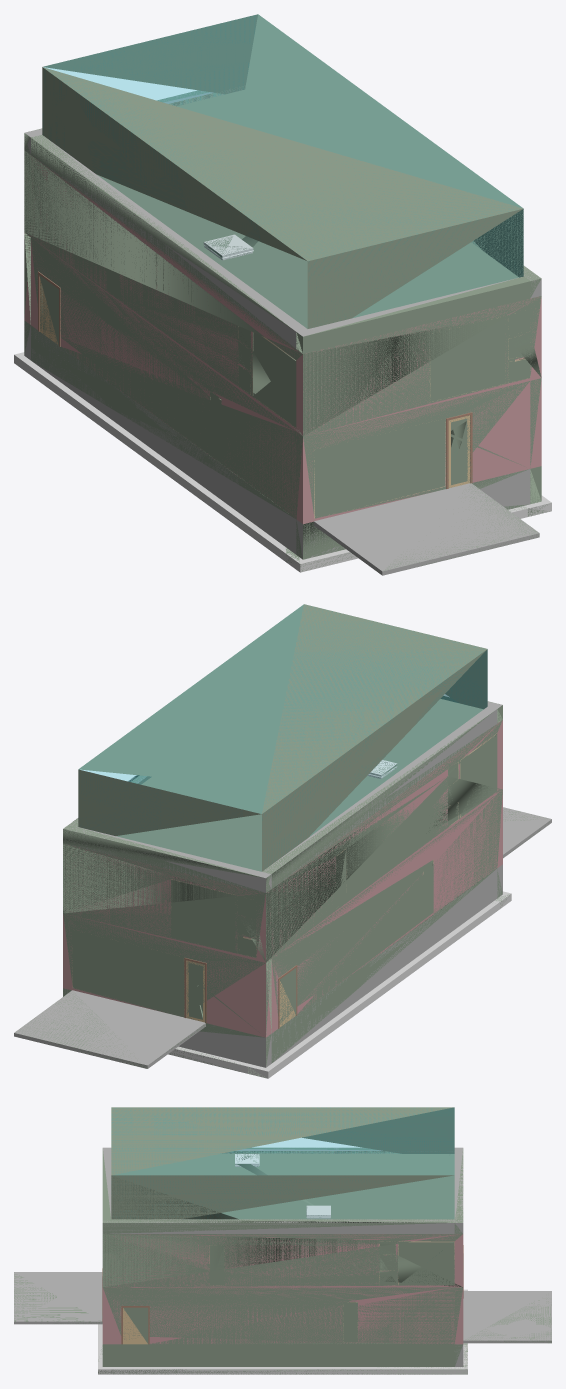
The model's file is modelArchitecture.gltf.
The picture shows the model from 3 angles, top to bottom: view 1: azimuth 30°, elevation 25°; view 2: azimuth 150°, elevation 25°; view 3: azimuth 270°, elevation 25°; orthographic projection. The views are drawn at different scales.
Visible parts, largest first — view 1: duplex_architecture.ifc; view 2: duplex_architecture.ifc; view 3: duplex_architecture.ifc.
Boxes of the visible parts, x1=… form: duplex_architecture.ifc: x1=14, y1=14, x2=551, y2=575; duplex_architecture.ifc: x1=14, y1=604, x2=551, y2=1078; duplex_architecture.ifc: x1=14, y1=1107, x2=551, y2=1374.
Size of the model in its own units: 9.28 by 10.55 by 26.57.
